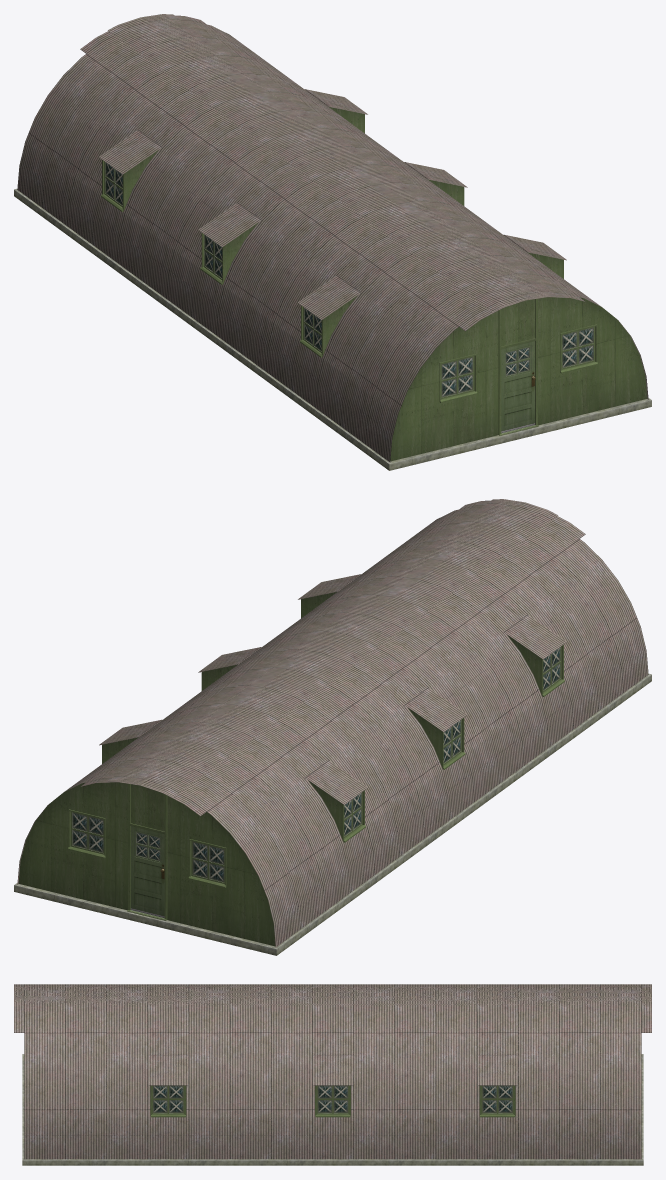
The model's file is Barracks.dae.
3 renders of one model, top to bottom at view 1: azimuth 30°, elevation 25°; view 2: azimuth 150°, elevation 25°; view 3: azimuth 270°, elevation 25°, orthographic. The views are drawn at different scales.
Parts seen in each view (by area): view 1: HutSide1 (×2), HutTop1, HutEnd1 (×3), HutFloor1, WinRoof01 (×3), DoorSingle; view 2: HutSide1 (×2), HutTop1, HutEnd1 (×3), HutFloor1, WinRoof01 (×3), DoorSingle; view 3: HutSide1 (×2), HutTop1, HutFloor1, WinRoof01 (×3), WinPanes01.
Boxes of the visible parts, bbox=[...] form: HutSide1 (×2): bbox=[17, 15, 648, 462]; HutTop1: bbox=[108, 14, 557, 312]; HutEnd1 (×3): bbox=[390, 297, 647, 461]; HutFloor1: bbox=[14, 188, 651, 470]; WinRoof01 (×3): bbox=[99, 130, 360, 319]; DoorSingle: bbox=[501, 341, 535, 432]; HutSide1 (×2): bbox=[17, 500, 648, 947]; HutTop1: bbox=[108, 499, 557, 797]; HutEnd1 (×3): bbox=[18, 782, 275, 946]; HutFloor1: bbox=[14, 673, 651, 955]; WinRoof01 (×3): bbox=[305, 615, 566, 804]; DoorSingle: bbox=[130, 826, 164, 917]; HutSide1 (×2): bbox=[14, 984, 651, 1159]; HutTop1: bbox=[14, 985, 651, 1011]; HutFloor1: bbox=[22, 1054, 643, 1165]; WinRoof01 (×3): bbox=[148, 1054, 517, 1085]; WinPanes01: bbox=[316, 1085, 349, 1114].
Size of the model in its own units: 240 by 610 by 125.
29 materials, 27 textured.
